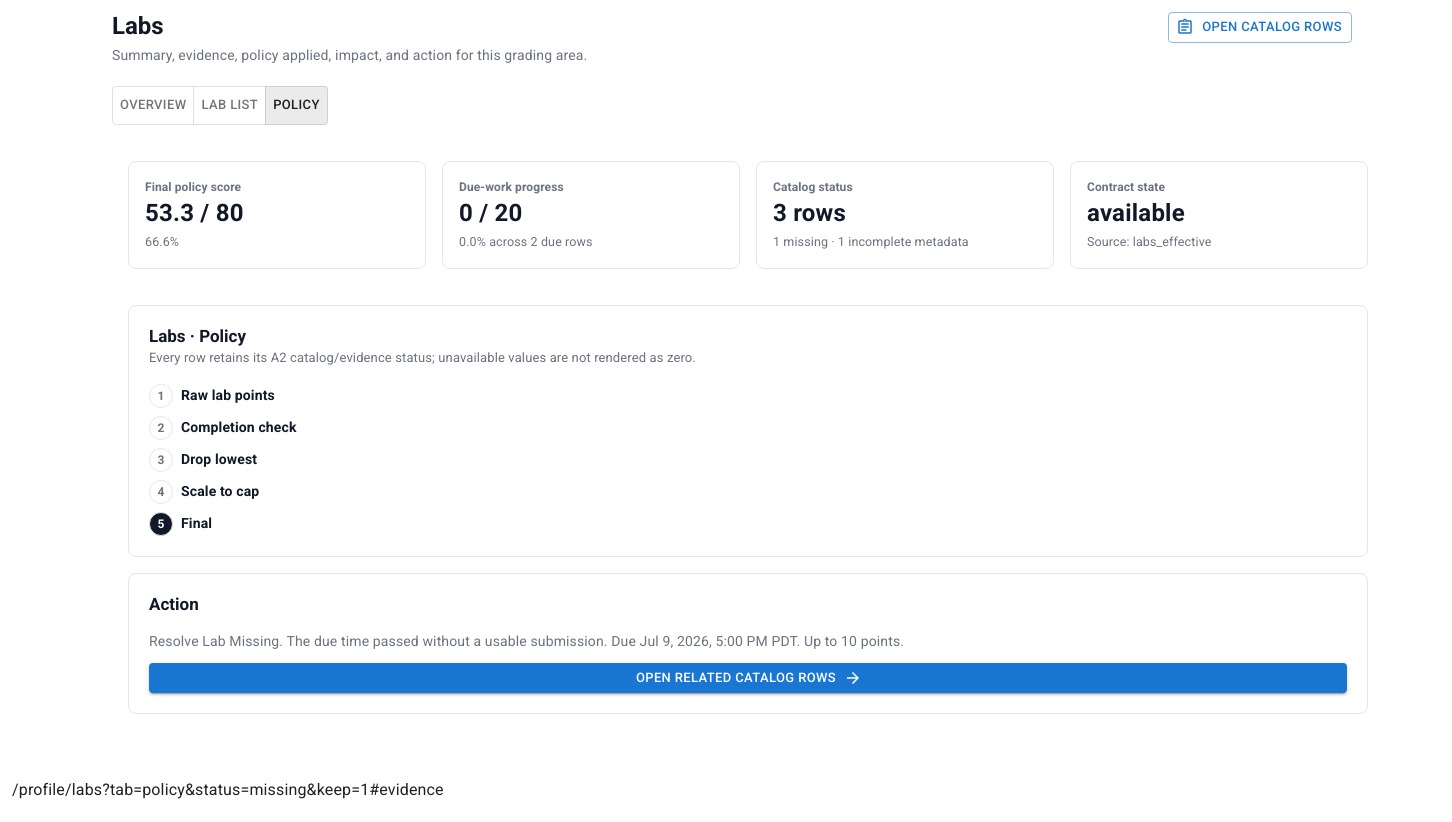
it: student experience canonical contract surfaces › Labs URL restores a distinct Policy tab and preserves unrelated query state
Expected: the heading "Labs · Policy" is shown, [149, 326, 246, 346]
Expected: the column heading "Assignment" is not shown
Click the button "Lab List" at (230,105), box [194, 86, 266, 125]
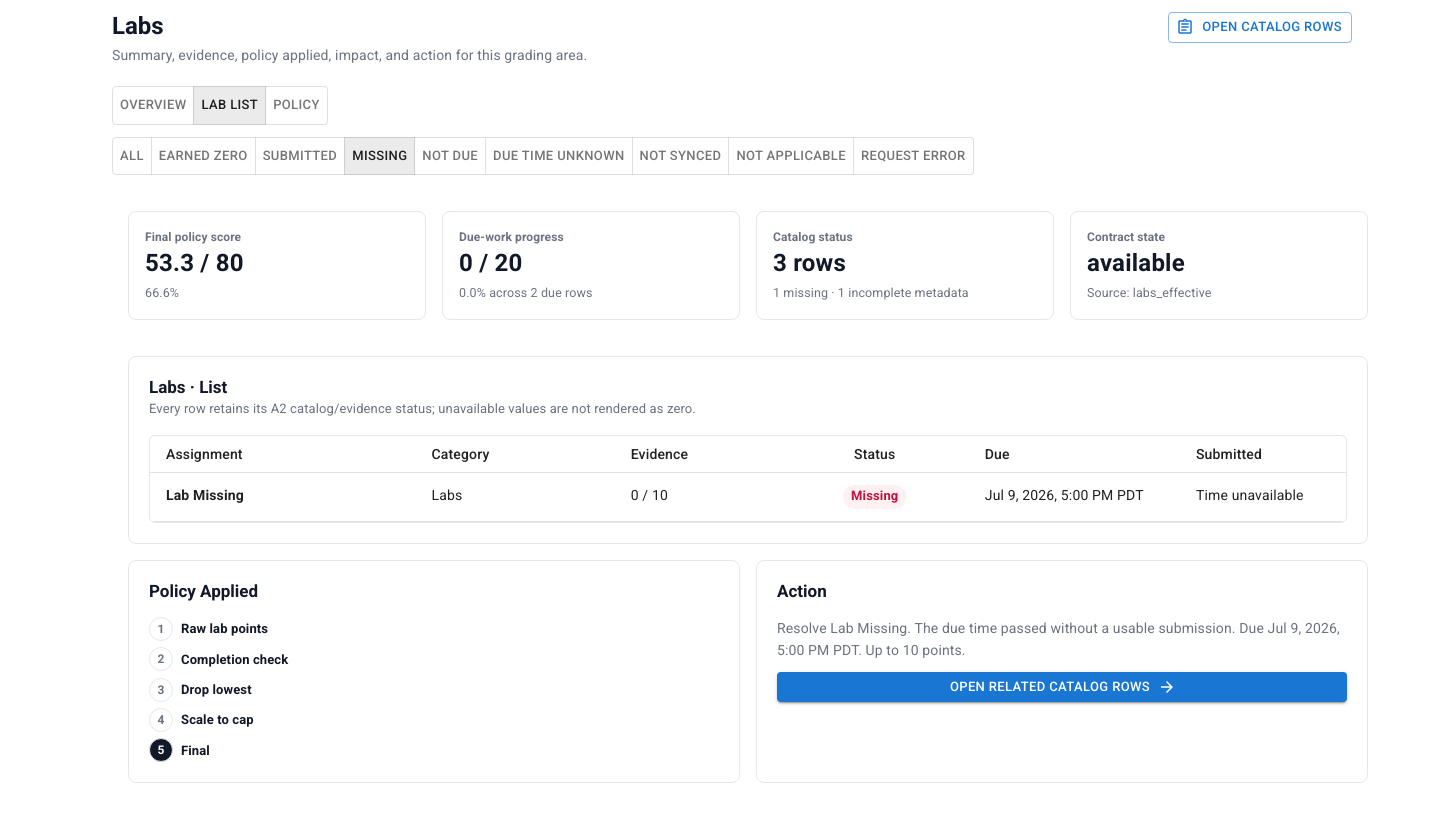
Expected: the heading "Labs · List" is shown, [149, 377, 227, 397]
Expected: the text "Lab Missing" is shown, [150, 472, 416, 521]
